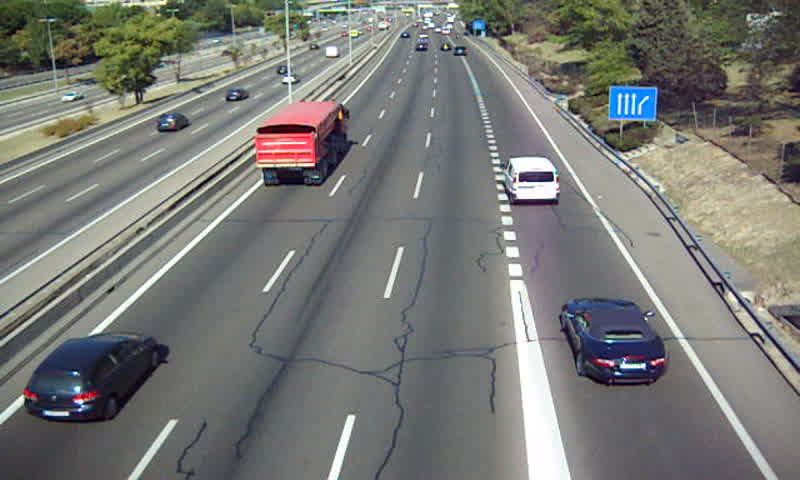car: (24, 333, 160, 423), (560, 298, 669, 381)
truck: (258, 102, 350, 187)
van: (503, 157, 558, 205)
